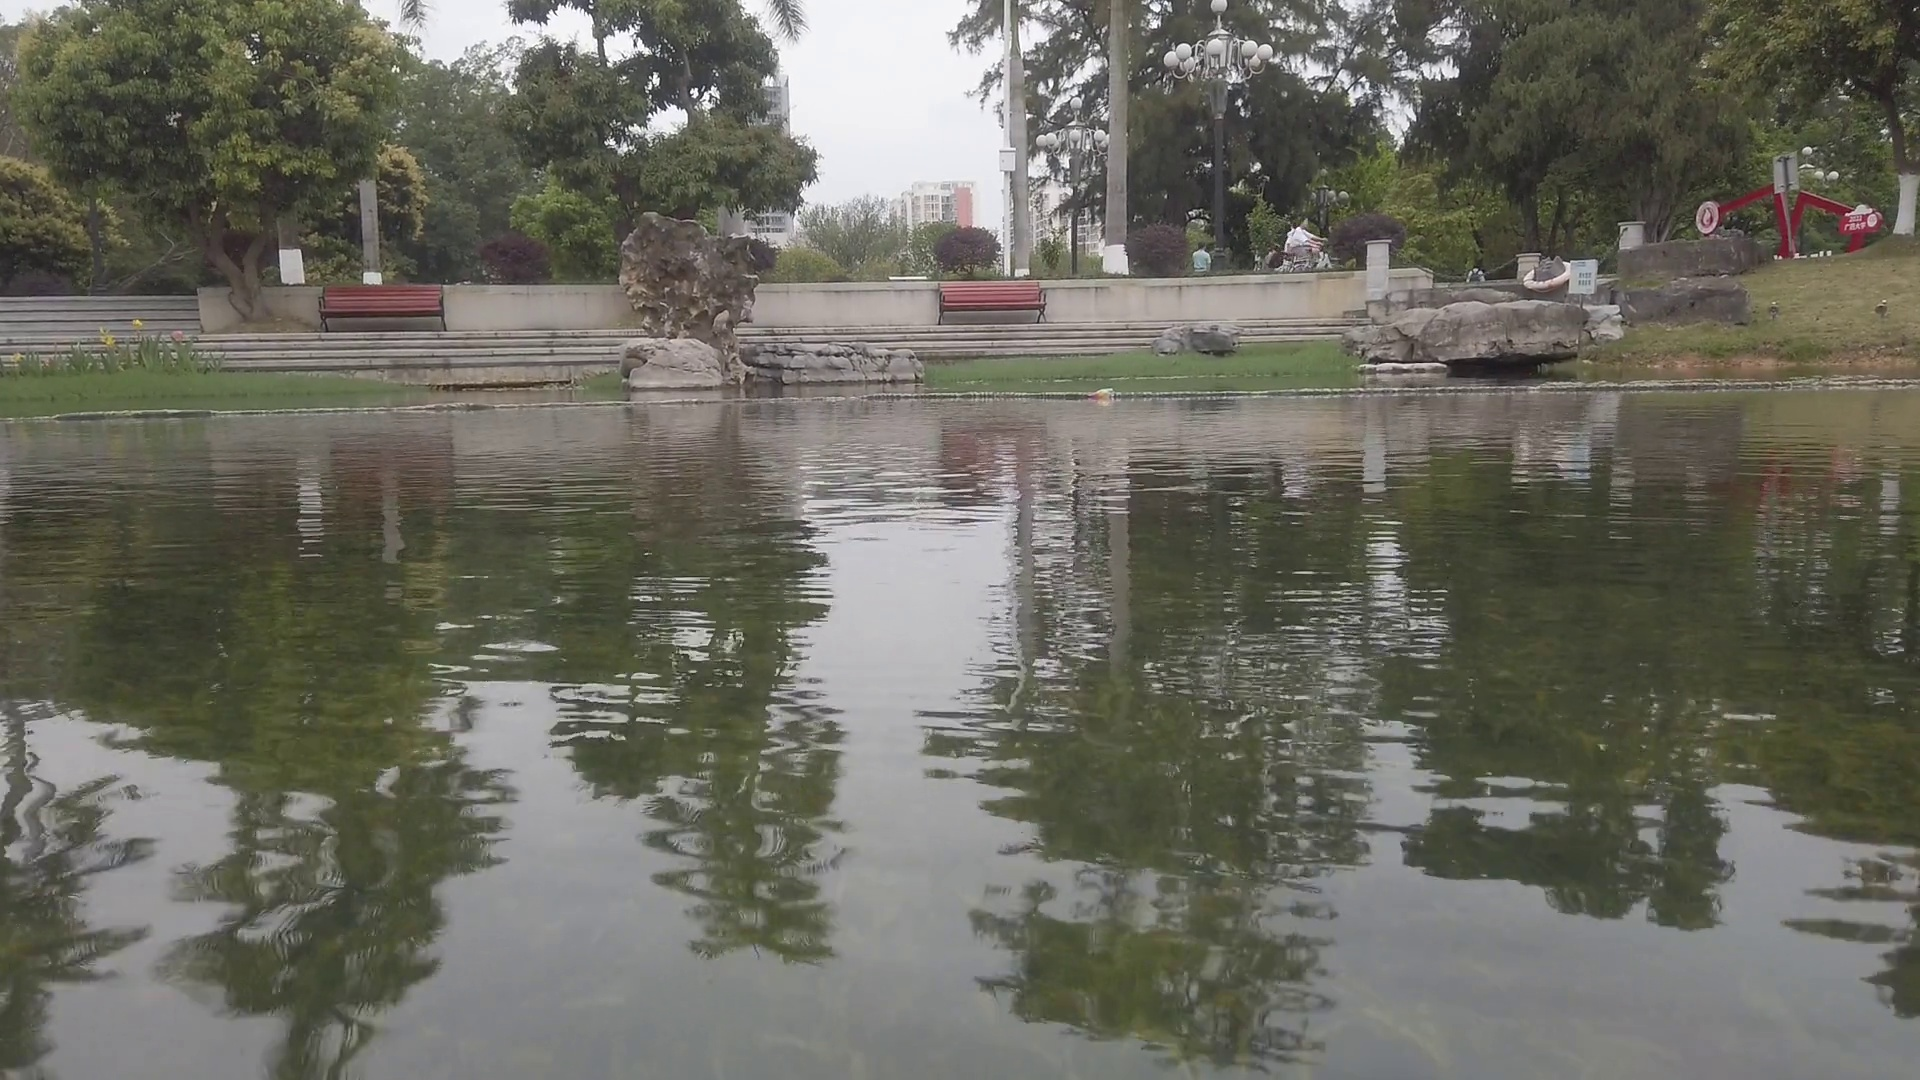bottle: (1087, 388, 1114, 398)
